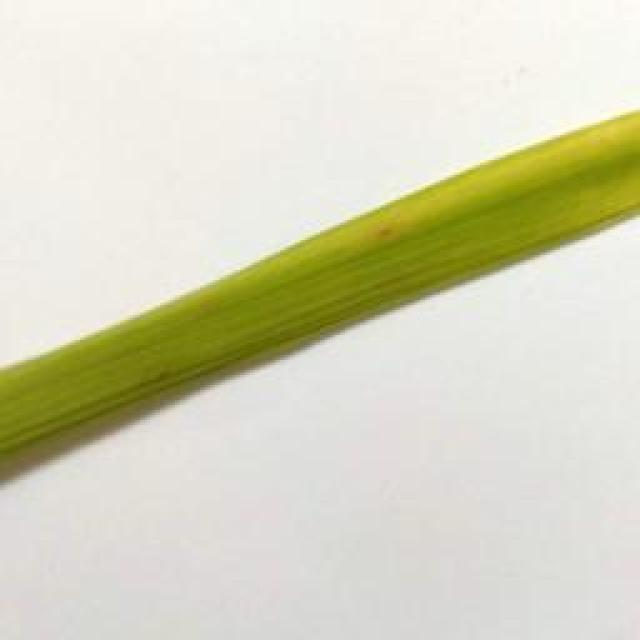Brown_Spot: (140, 356, 182, 388), (368, 221, 405, 247)
